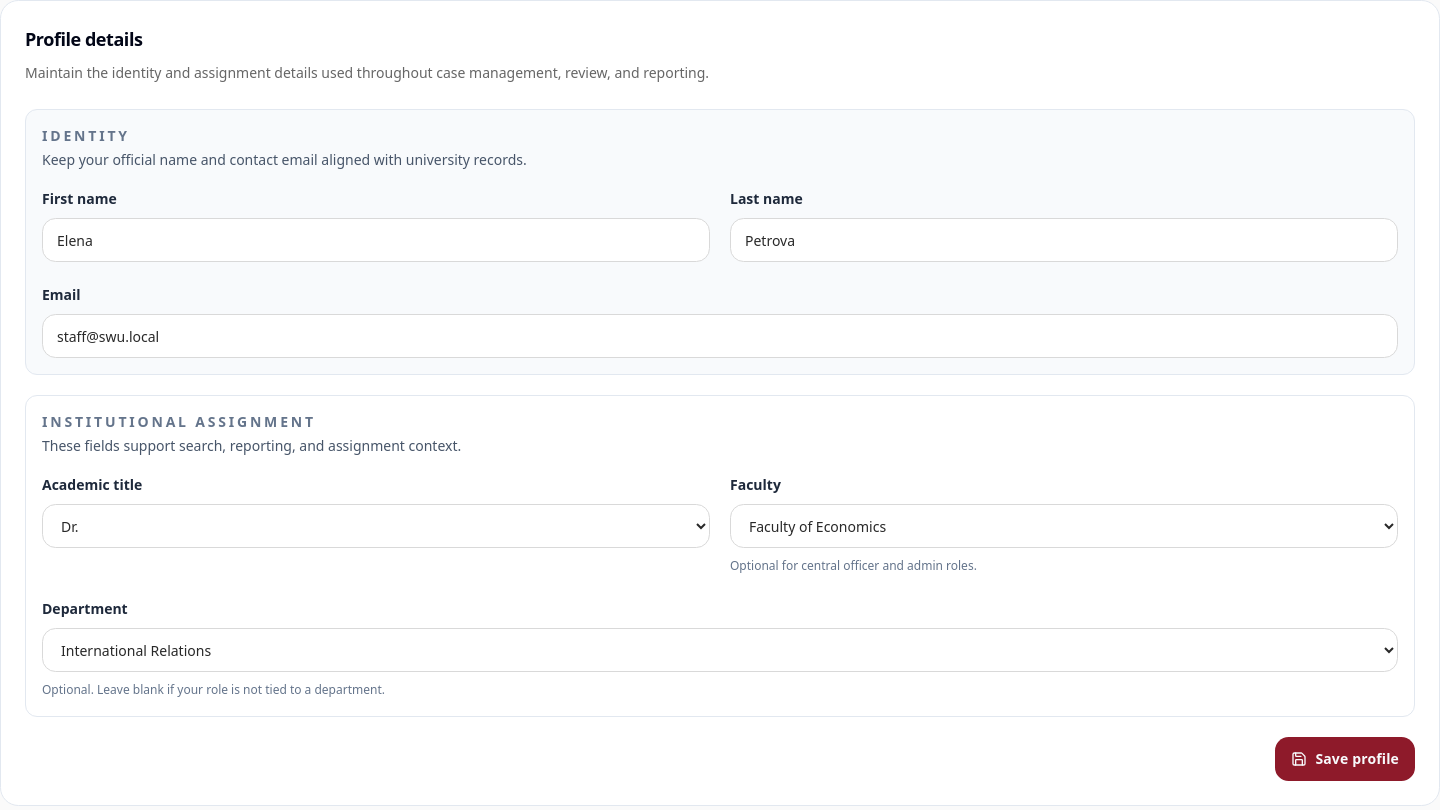
Test: ProfileForm › shows validation feedback before submit
This screenshot has width=1440, height=810.
Clear the field labelled "First name": (376, 240) [42, 218, 710, 262]
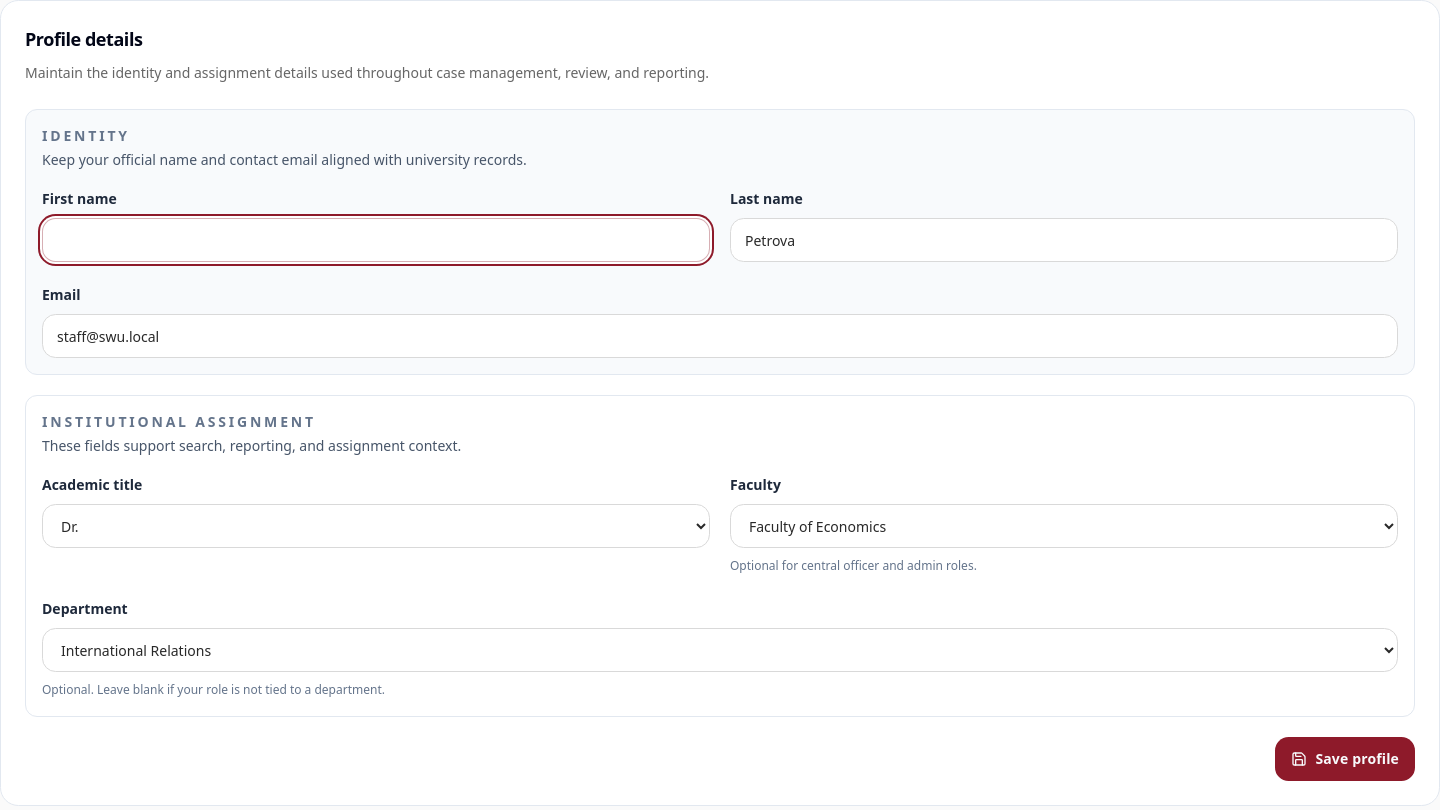
Click the button "Save profile": (1345, 759) [1275, 737, 1415, 781]
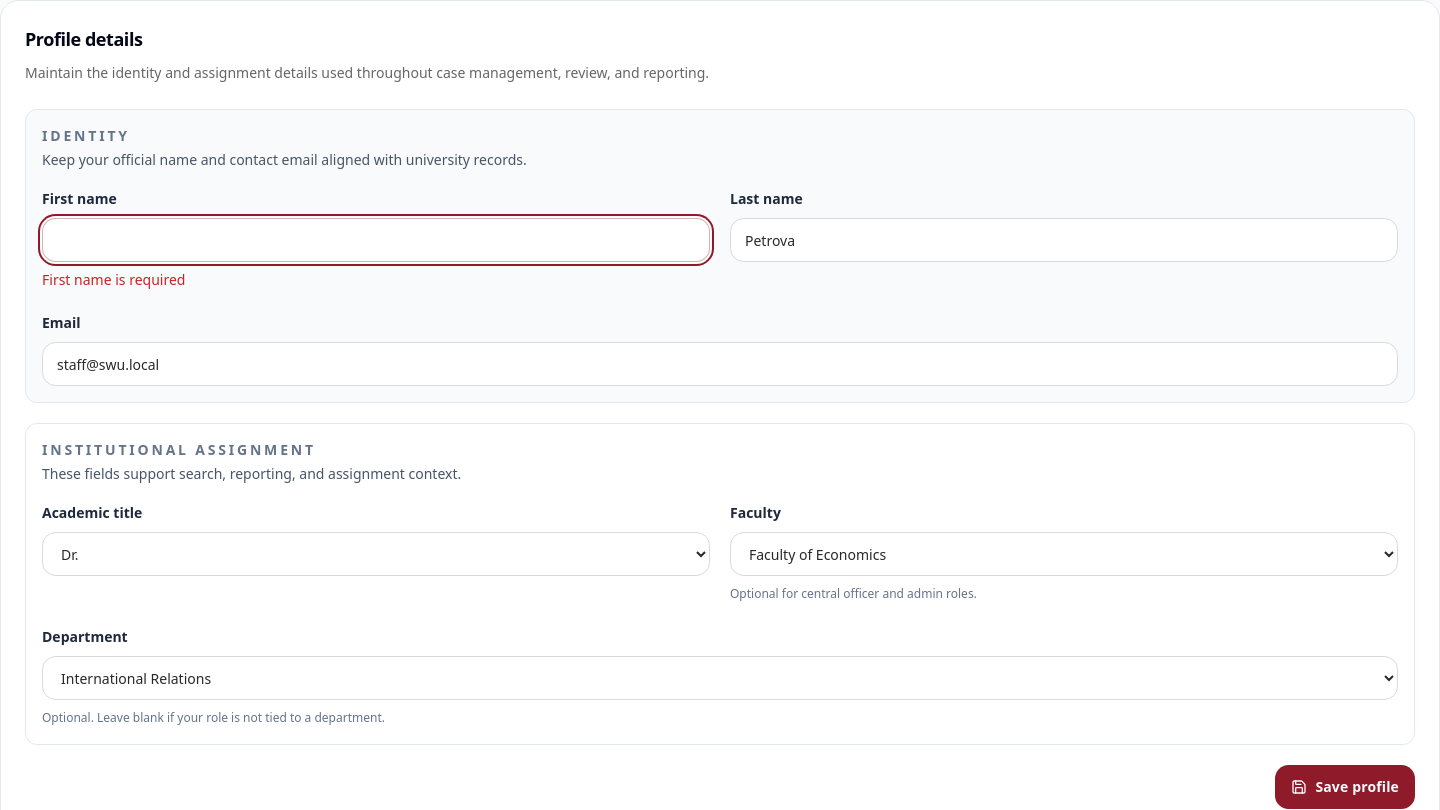
Now the text "First name is required" is shown, box [42, 270, 185, 289]
